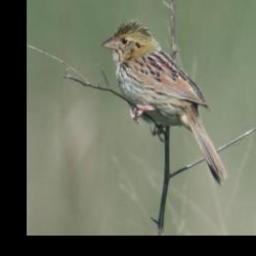Sparrow: (98, 18, 232, 188)
